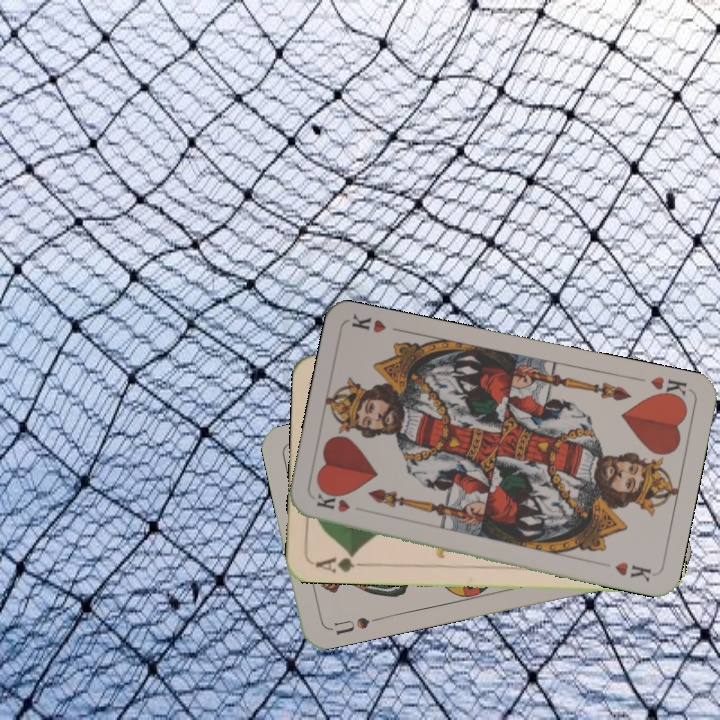GA: (312, 548, 369, 575)
HK: (646, 372, 692, 405), (313, 491, 353, 515)
SU: (324, 613, 383, 638)
